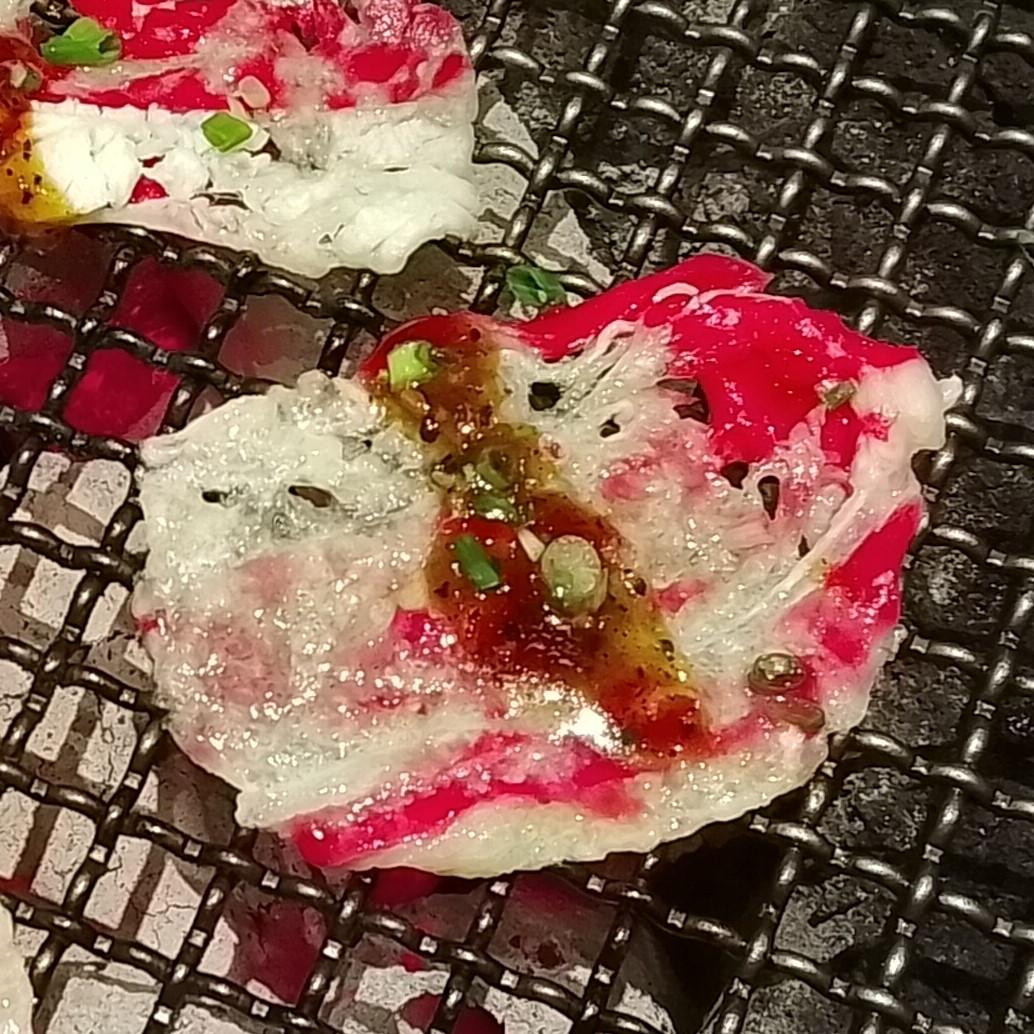Undercooked: (127, 255, 948, 884), (17, 0, 496, 285)
